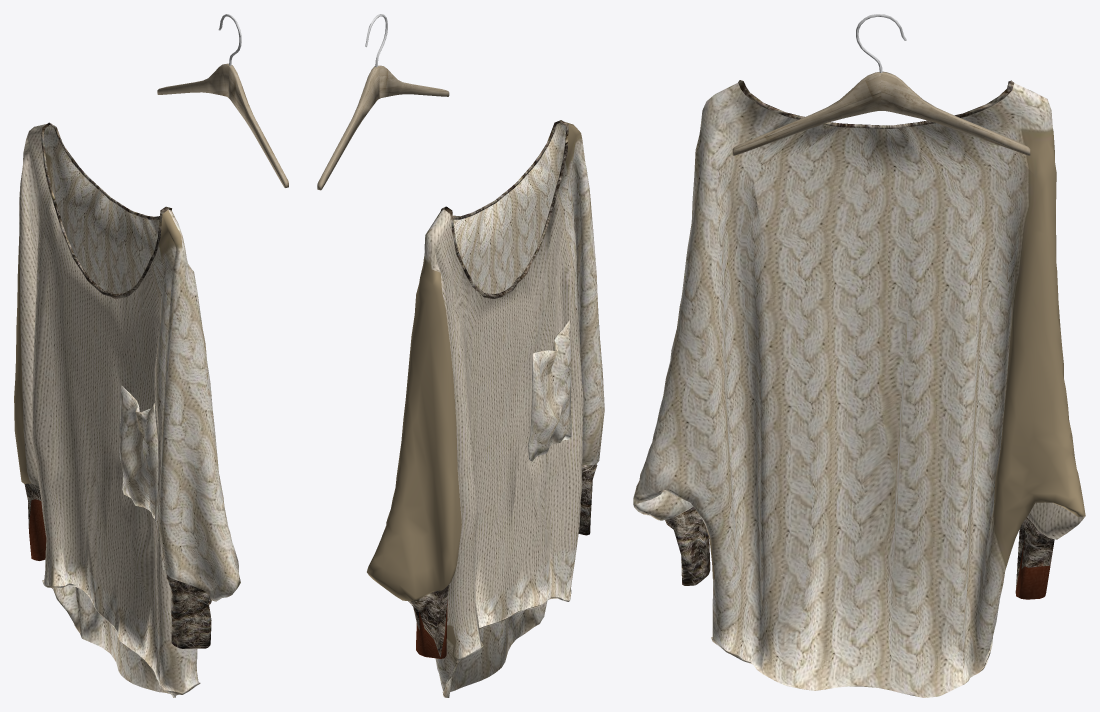
File: rod-sweater06.glb
3 views of the same model, side by side, from view 1: azimuth 30°, elevation 25°; view 2: azimuth 150°, elevation 25°; view 3: azimuth 270°, elevation 25° (orthographic). The views are drawn at different scales.
Visible parts, largest first — view 1: sweater06.001, Hangers_for_clothes092.001; view 2: sweater06.001, Hangers_for_clothes092.001; view 3: sweater06.001, Hangers_for_clothes092.001.
Boxes of the visible parts, x1,y1,x2,y2 form: sweater06.001: (14,122,240,697); Hangers_for_clothes092.001: (157,14,288,187); sweater06.001: (367,120,604,697); Hangers_for_clothes092.001: (317,14,449,190); sweater06.001: (633,80,1085,697); Hangers_for_clothes092.001: (732,14,1030,155).
Size of the model in its own units: 0.2672 by 1.08 by 0.6014.
Materials: 5 (4 with a texture image).
